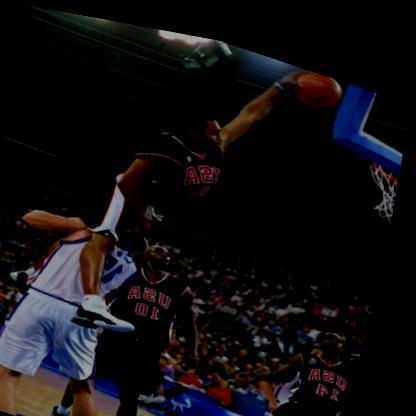basketball: (288, 55, 347, 101)
